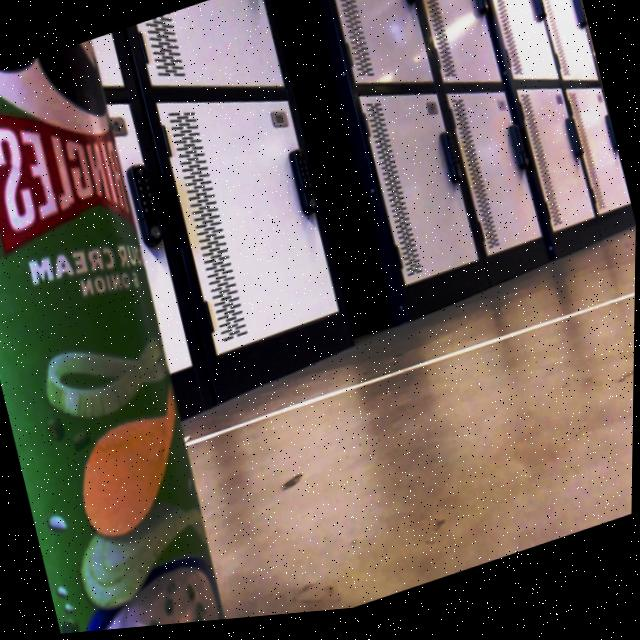greenpringles: (0, 23, 268, 640)
